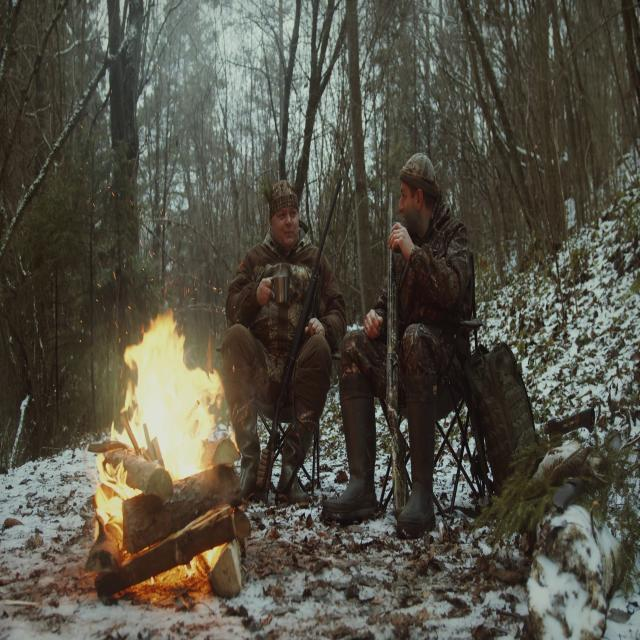Fire: (77, 281, 252, 598)
